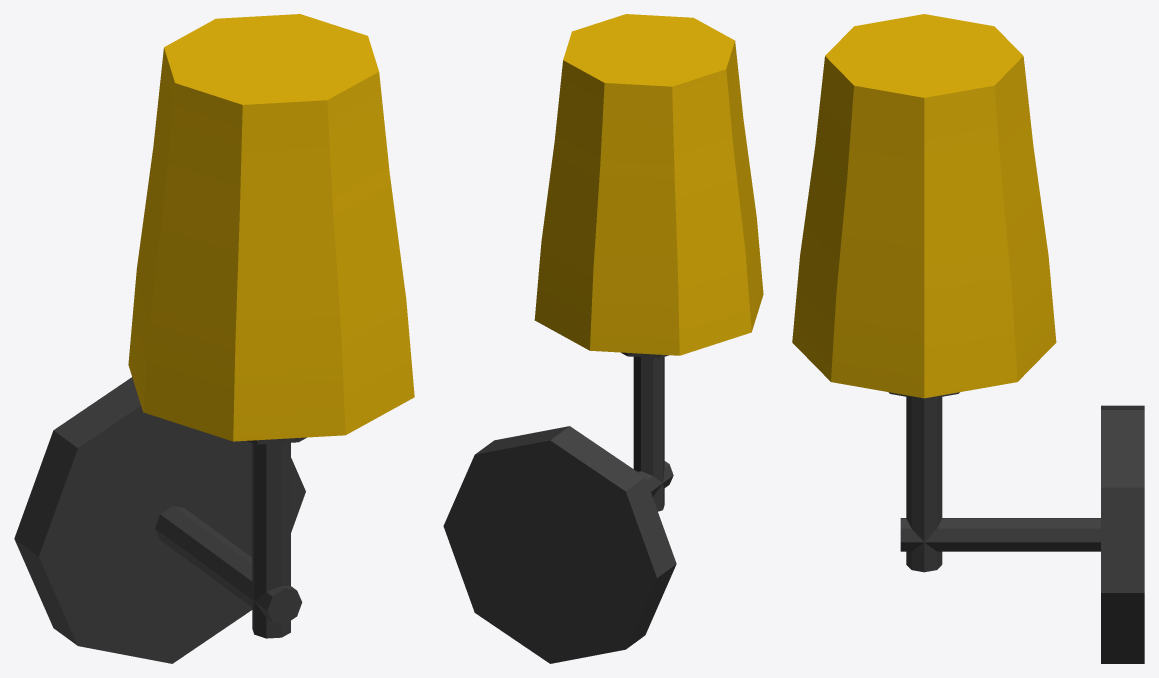
Rendered from SM_Light.fbx.
3 renders of one model, left to right at view 1: azimuth 30°, elevation 25°; view 2: azimuth 150°, elevation 25°; view 3: azimuth 270°, elevation 25°, orthographic. The views are drawn at different scales.
Parts seen in each view (by area): view 1: Lamp; view 2: Lamp; view 3: Lamp.
Part boxes in pixels (x1,y1,x2,y2): Lamp: [14, 14, 414, 663]; Lamp: [443, 14, 763, 663]; Lamp: [792, 14, 1144, 663].
Size of the model in its own units: 35.86 by 86.79 by 45.95.
